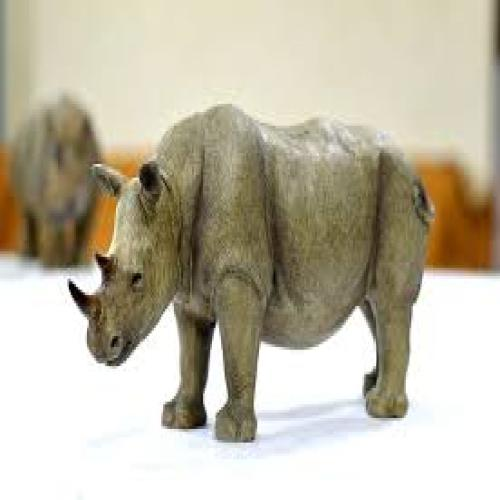rhino-endangered: (63, 100, 435, 441)
